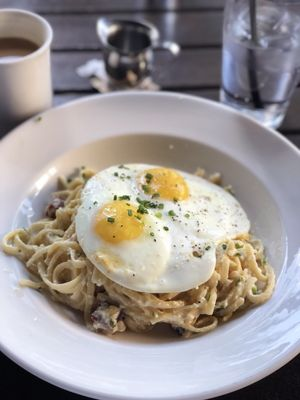pizza: (219, 0, 300, 130), (94, 16, 163, 92)
sushi: (0, 108, 298, 396)
